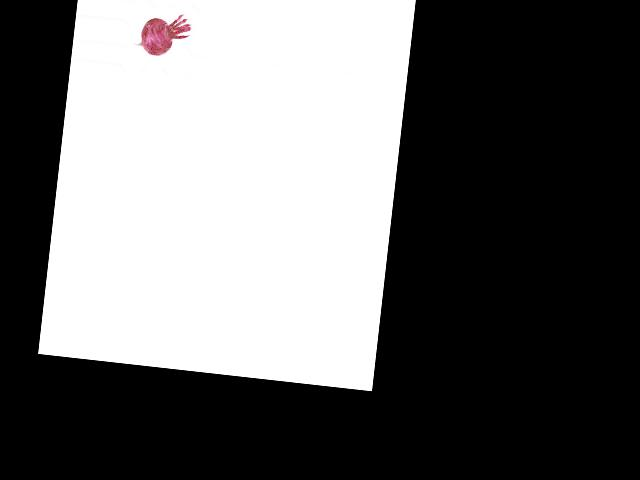beet: (132, 9, 192, 59)
